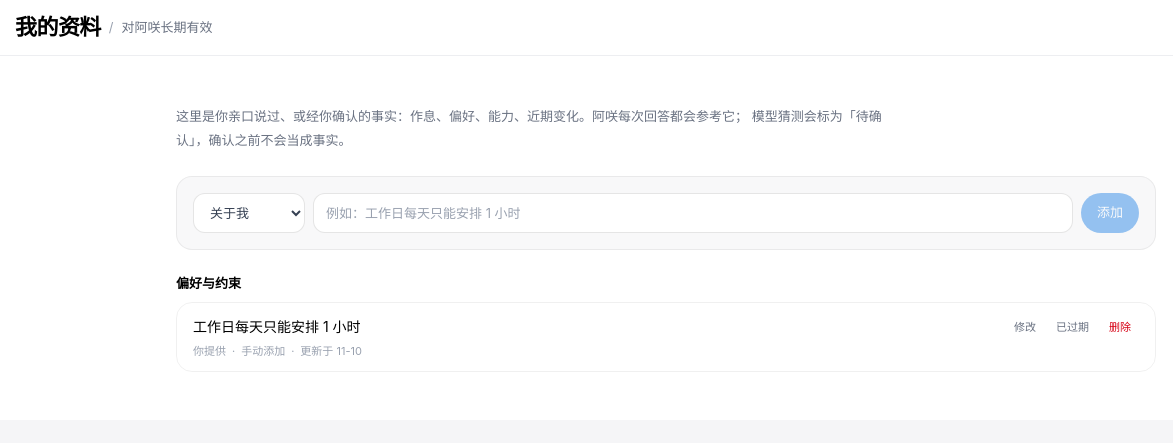
it: editing an entry adds its history and shows the toggle after the save
The width and height of the screenshot is (1173, 443).
Click the button "修改": (1025, 327) [1006,314,1044,339]
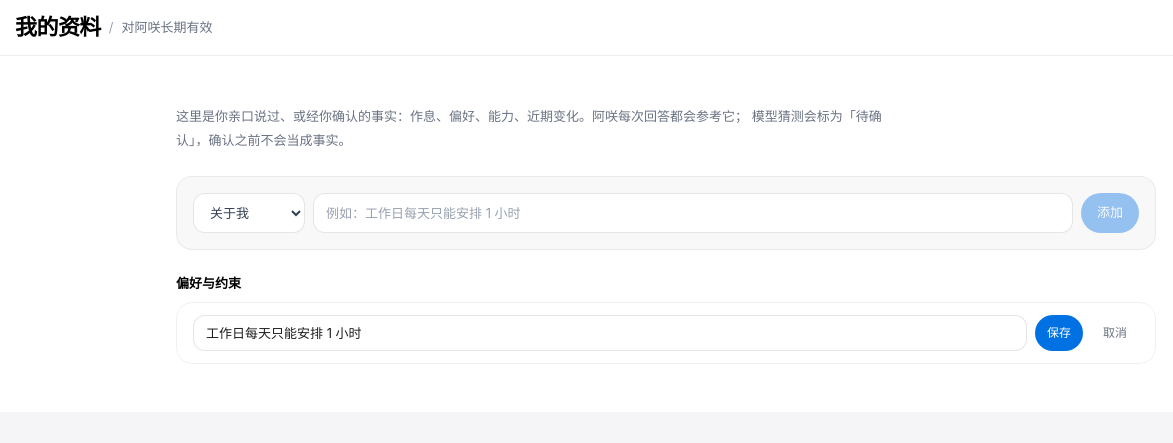
Replace the text in the field named "修改资料" with "工作日每天只能安排 2 小时": (610, 332) [193,314,1027,350]
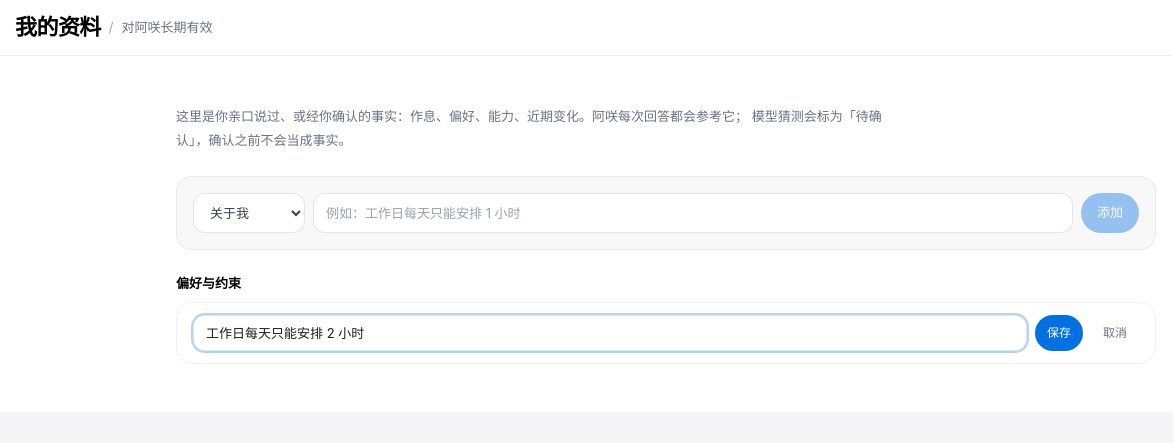
Click the button "保存": (1059, 332) [1035,314,1083,350]
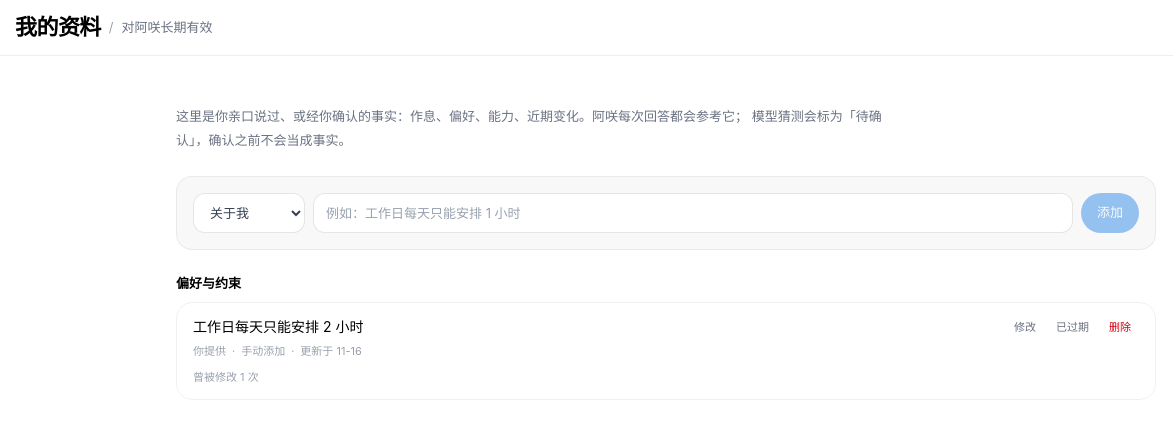
Result: the text "工作日每天只能安排 2 小时" is shown at [193,314,363,338]
Click the button "曾被修改 1 次": (226, 377) [193,369,259,386]
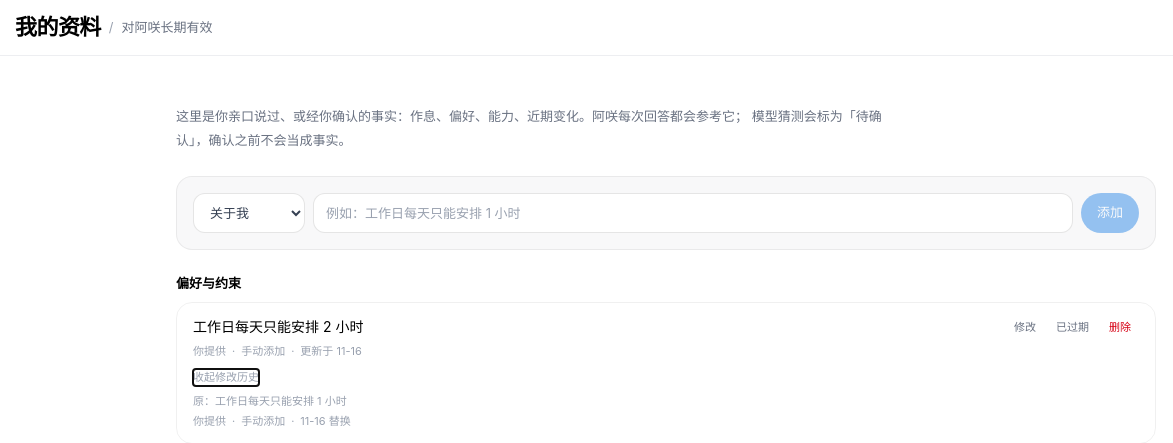
Result: the text "原：工作日每天只能安排 1 小时" is shown at [193,391,363,411]
